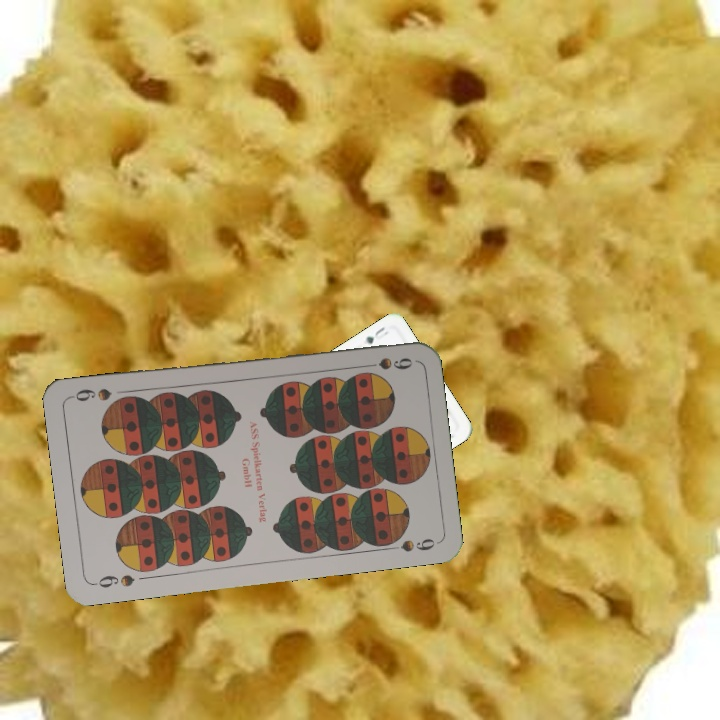GU: (362, 323, 391, 346)
S9: (356, 353, 415, 372), (90, 570, 137, 590)
